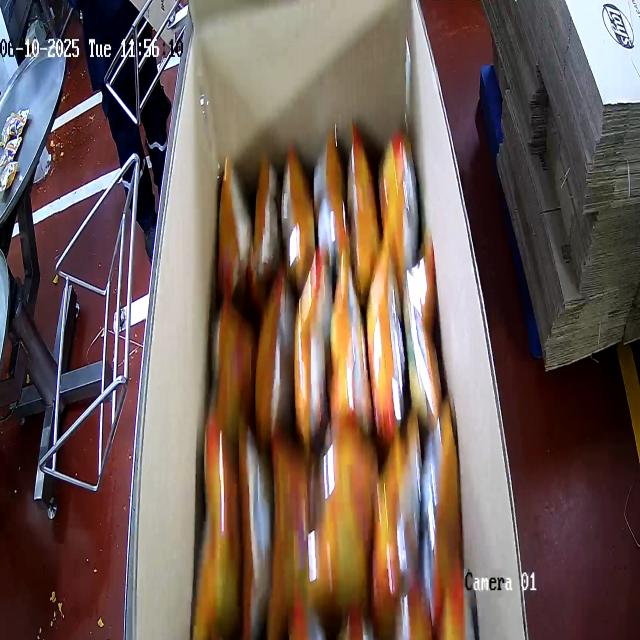FRENCH_CHEESE: (209, 128, 462, 640)
